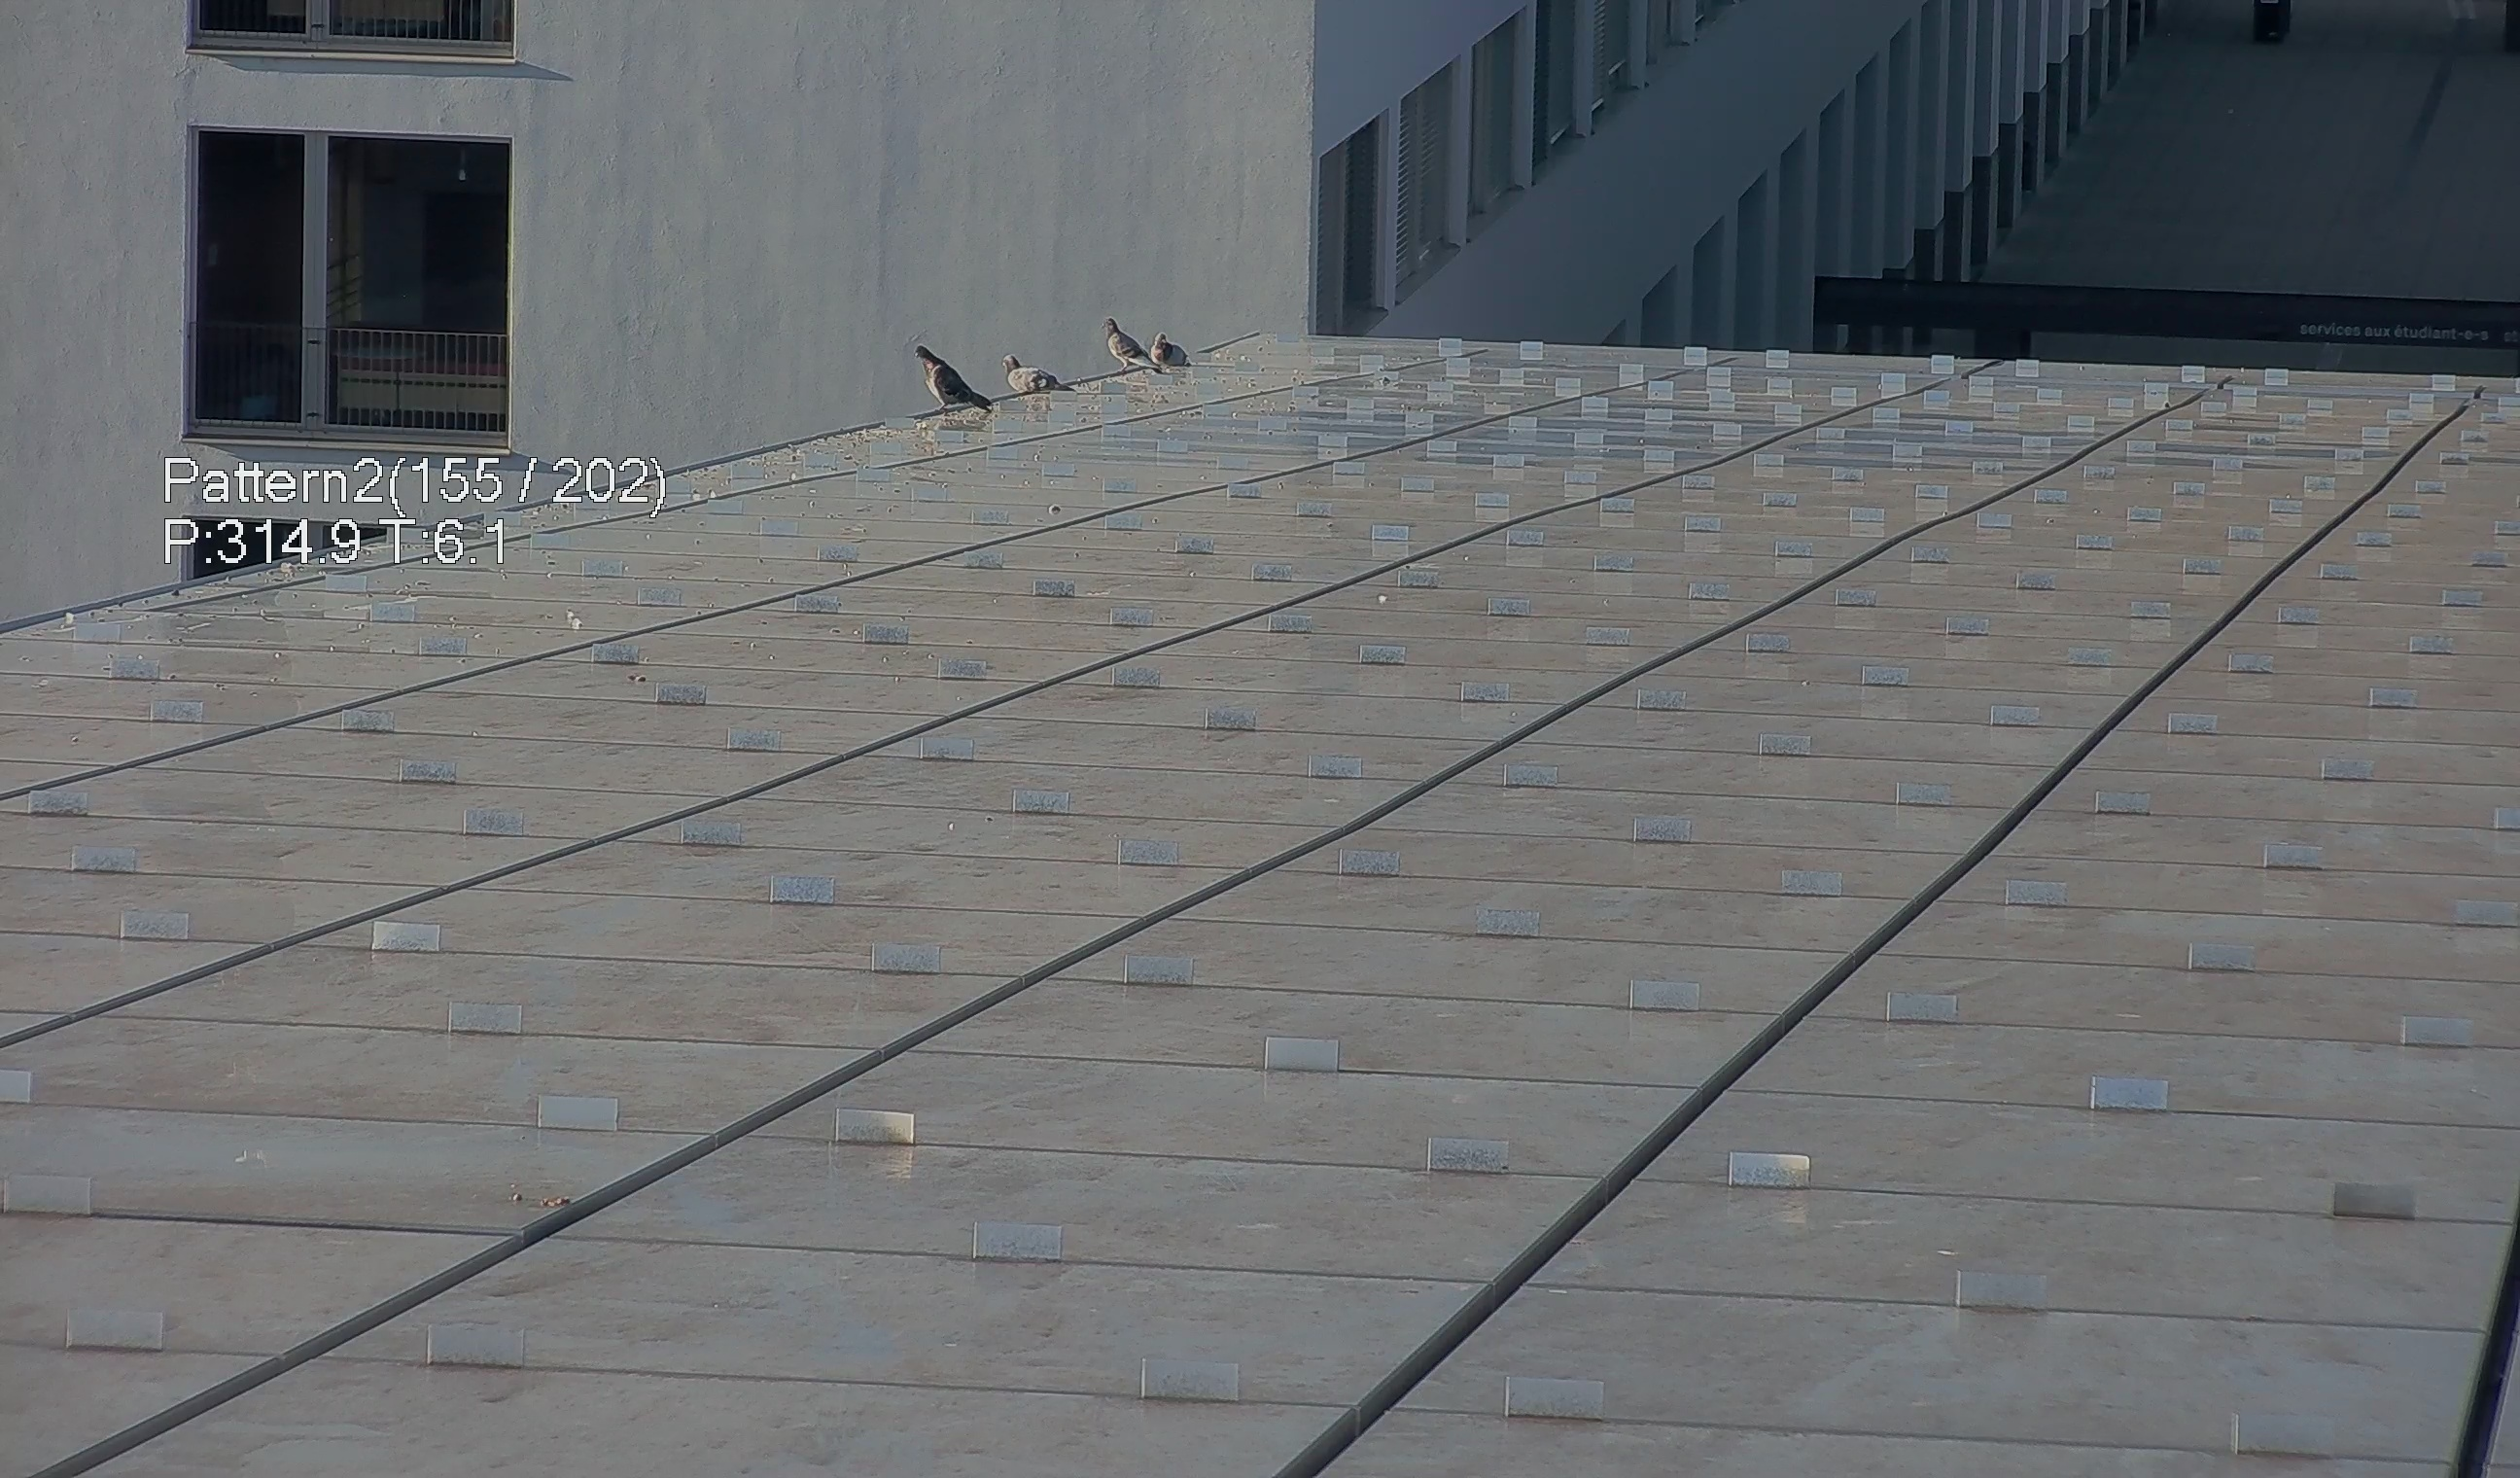Pigeon: (904, 334, 1001, 421), (1089, 317, 1168, 380), (997, 352, 1078, 405), (1147, 333, 1201, 373)
